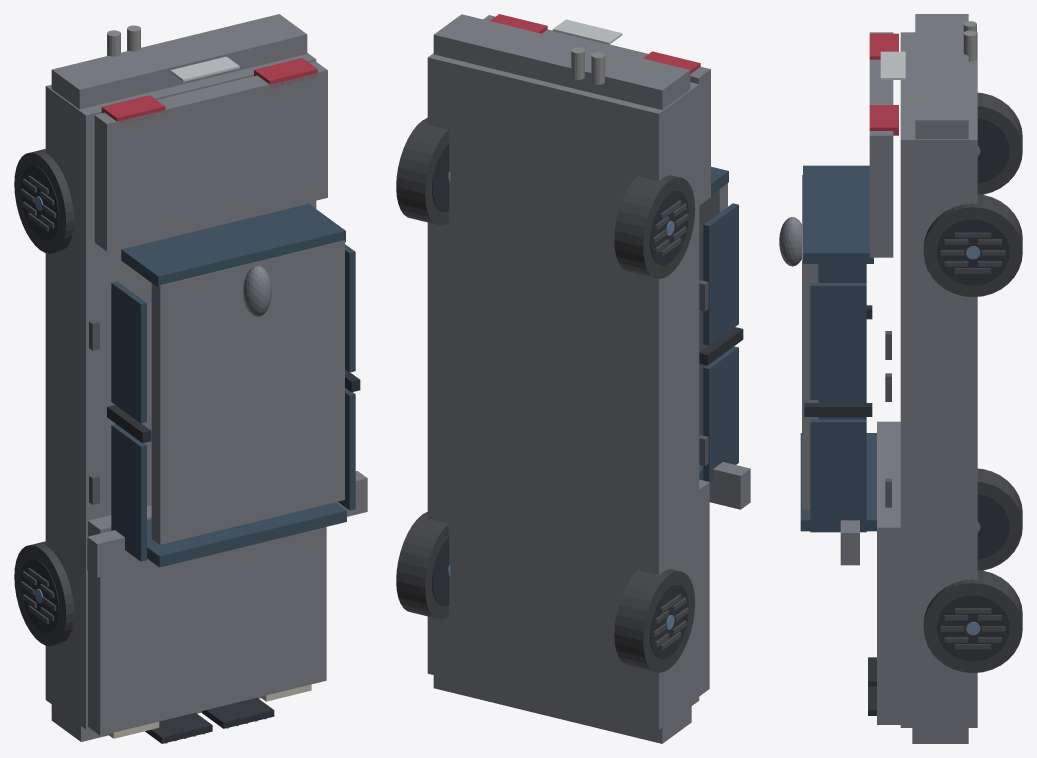
File: bmw-325xi.glb
The picture shows the model from 3 angles, left to right: view 1: azimuth 30°, elevation 25°; view 2: azimuth 150°, elevation 25°; view 3: azimuth 270°, elevation 25°; orthographic projection. The views are drawn at different scales.
Parts seen in each view (by area): view 1: roof, hood, lower_chassis, trunk, rear_bumper, rear_windshield, windshield, rear_side_window, front_side_window, tire_1, tire, mirror (+13 smaller); view 2: lower_chassis, rear_bumper, tire, tire_1, rear_side_window, front_side_window, tire_2, tire_3, front_bumper, trunk, hood, mirror (+7 smaller); view 3: lower_chassis, hood, rear_side_window_1, rear_windshield, rear_bumper, front_side_window_1, tire_2, tire_3, trunk, rim_3, rim_2, roof (+13 smaller).
Boxes of the visible parts, x1,y1,x2,y2 form: roof: [151, 240, 344, 544]; hood: [88, 505, 326, 735]; lower_chassis: [45, 53, 316, 729]; trunk: [94, 61, 327, 251]; rear_bumper: [51, 14, 307, 109]; rear_windshield: [121, 203, 345, 287]; windshield: [147, 502, 346, 567]; rear_side_window: [111, 281, 146, 423]; front_side_window: [111, 424, 146, 561]; tire_1: [14, 149, 73, 253]; tire: [14, 541, 73, 646]; mirror: [87, 530, 129, 577]; lower_chassis: [427, 53, 699, 729]; rear_bumper: [433, 14, 690, 109]; tire: [614, 569, 695, 672]; tire_1: [614, 175, 695, 278]; rear_side_window: [703, 203, 738, 345]; front_side_window: [703, 346, 738, 483]; tire_2: [396, 512, 448, 619]; tire_3: [396, 118, 448, 225]; front_bumper: [433, 675, 691, 743]; trunk: [483, 15, 710, 205]; hood: [699, 479, 709, 695]; mirror: [709, 462, 750, 509]; lower_chassis: [900, 32, 977, 727]; hood: [877, 421, 900, 724]; rear_side_window_1: [810, 283, 866, 399]; rear_windshield: [803, 165, 873, 263]; rear_bumper: [915, 14, 968, 139]; front_side_window_1: [810, 419, 866, 532]; tire_2: [923, 570, 1022, 672]; tire_3: [923, 194, 1022, 297]; trunk: [869, 32, 893, 257]; rim_3: [936, 219, 1009, 285]; rim_2: [936, 595, 1009, 661]; roof: [802, 175, 818, 509].
Size of the model in its own units: 2.02 by 4.81 by 1.64.
